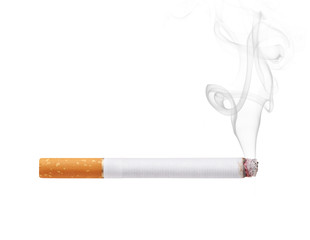cigarette: (36, 156, 263, 180)
